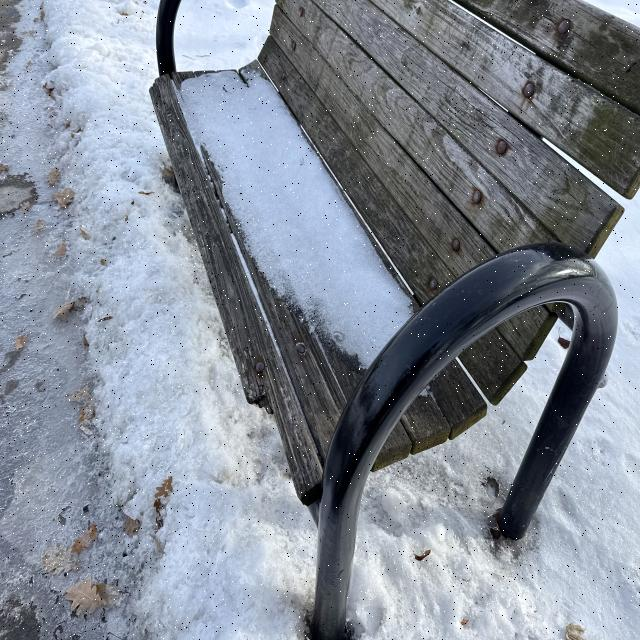Bench: (155, 1, 637, 606)
